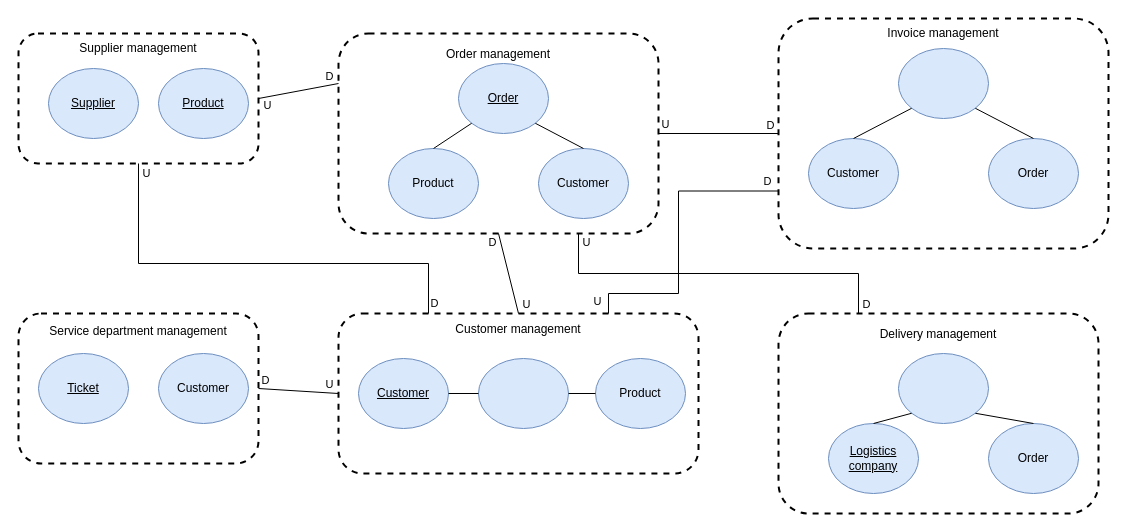
Some shapes in this 1126 by 531 pixel diagram are drawn without their labels. The centre of each missing label's shape, as x and y in pixels:
"Delivery" belongs at pixel 943 388.
"Invoice" belongs at pixel 943 83.
"Shopping cart" belongs at pixel 523 393.
